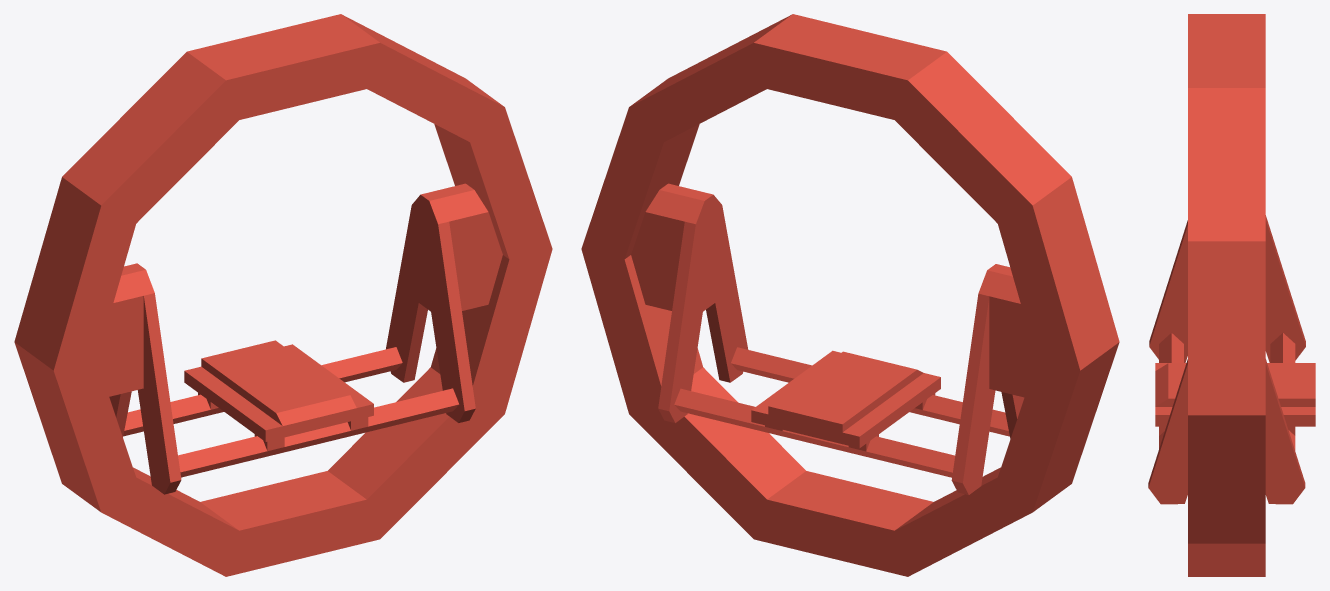
The model's file is SM_Camera_Crane_Tilt.fbx.
3 renders of one model, left to right at view 1: azimuth 30°, elevation 25°; view 2: azimuth 150°, elevation 25°; view 3: azimuth 270°, elevation 25°, orthographic.
Visible parts, largest first — view 1: SM_Camera_Crane_Tilt; view 2: SM_Camera_Crane_Tilt; view 3: SM_Camera_Crane_Tilt.
Part boxes in pixels (x1,y1,x2,y2): SM_Camera_Crane_Tilt: (14,14,552,576); SM_Camera_Crane_Tilt: (581,14,1119,576); SM_Camera_Crane_Tilt: (1148,14,1315,576).
Bounding box in the file's own units: 18.42 × 62.53 × 59.47.
